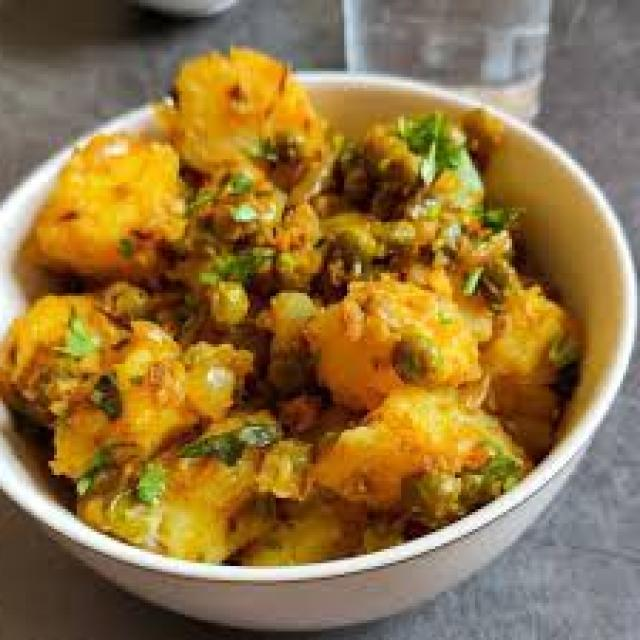Aloo Matar: (10, 50, 528, 562)
